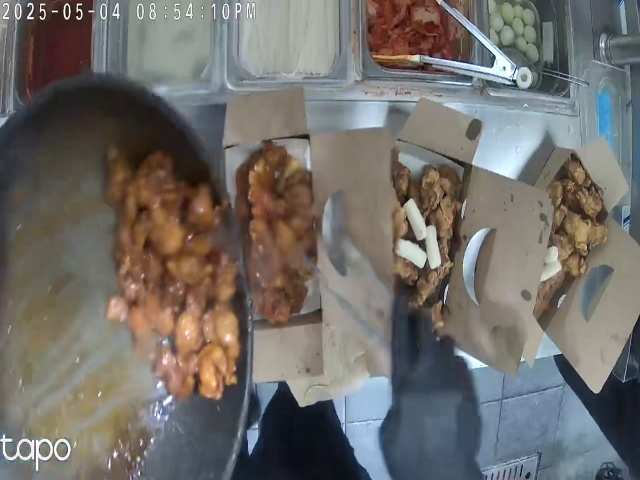delivery box: (216, 92, 386, 379), (396, 97, 530, 383), (535, 130, 630, 372)
food: (102, 141, 236, 386), (243, 144, 318, 324), (401, 146, 457, 327), (541, 156, 598, 307)
hand: (386, 322, 483, 467)
